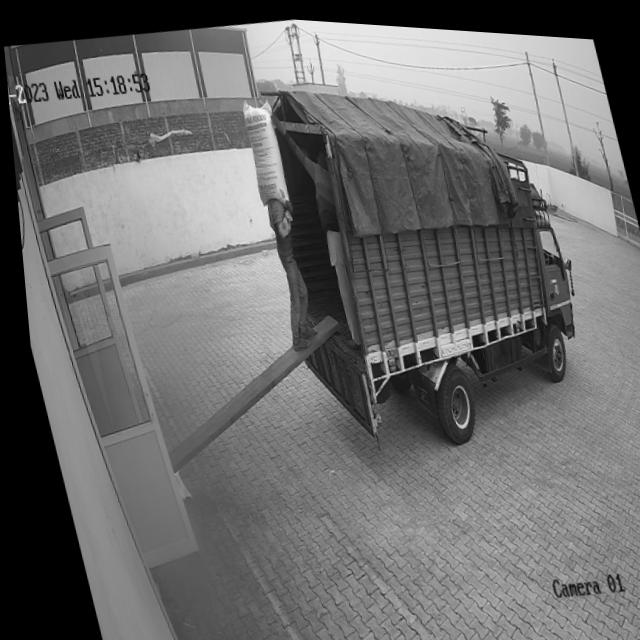sack: (234, 93, 292, 207)
